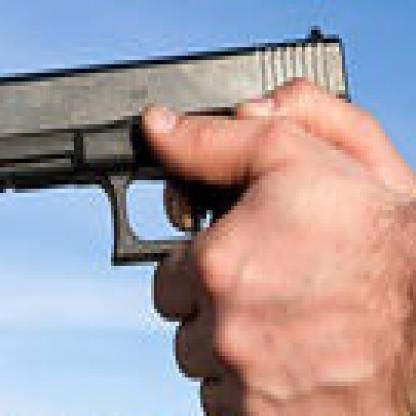gun: (0, 21, 358, 275)
